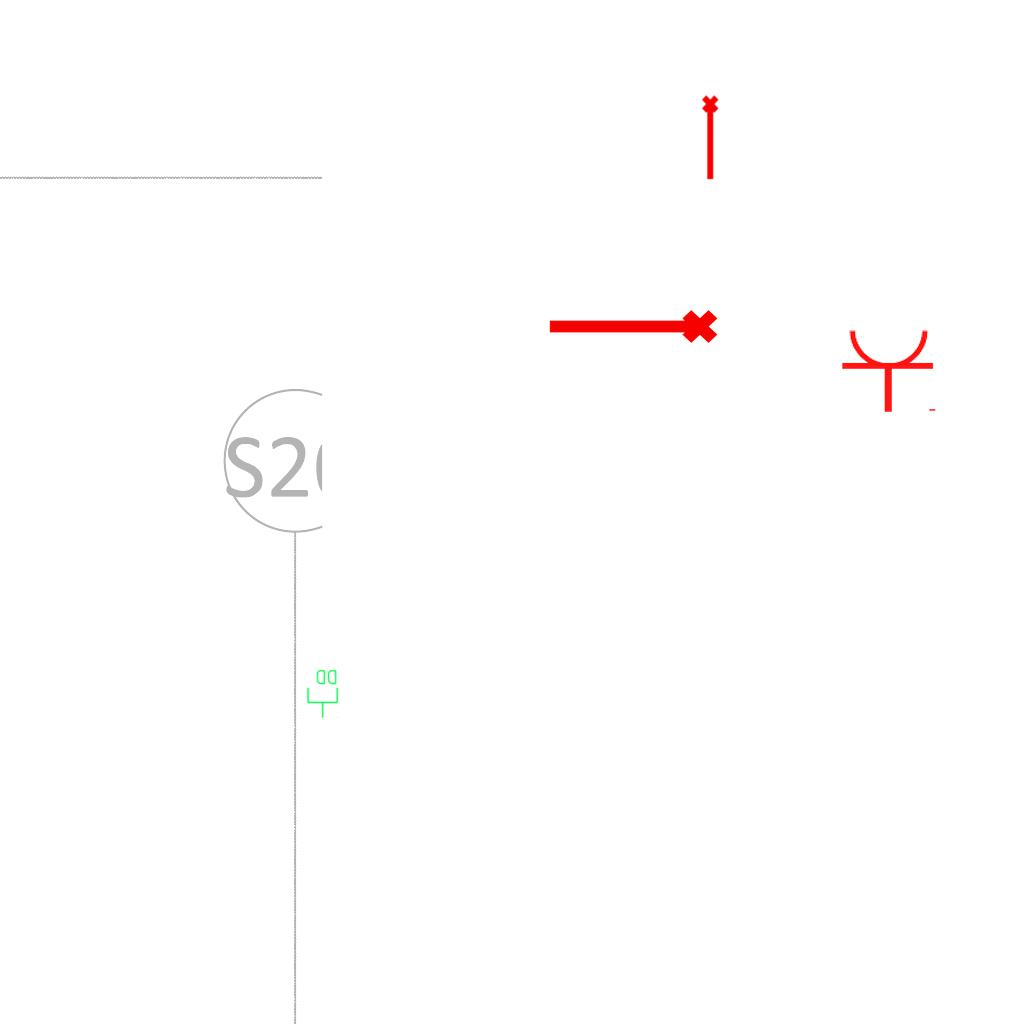ASR_Ansaugoeffnung: (544, 306, 720, 352), (700, 94, 723, 182)
Datenanschluss_zweifach: (306, 668, 340, 719)
Schukosteckdose_einfach: (840, 327, 940, 414)
